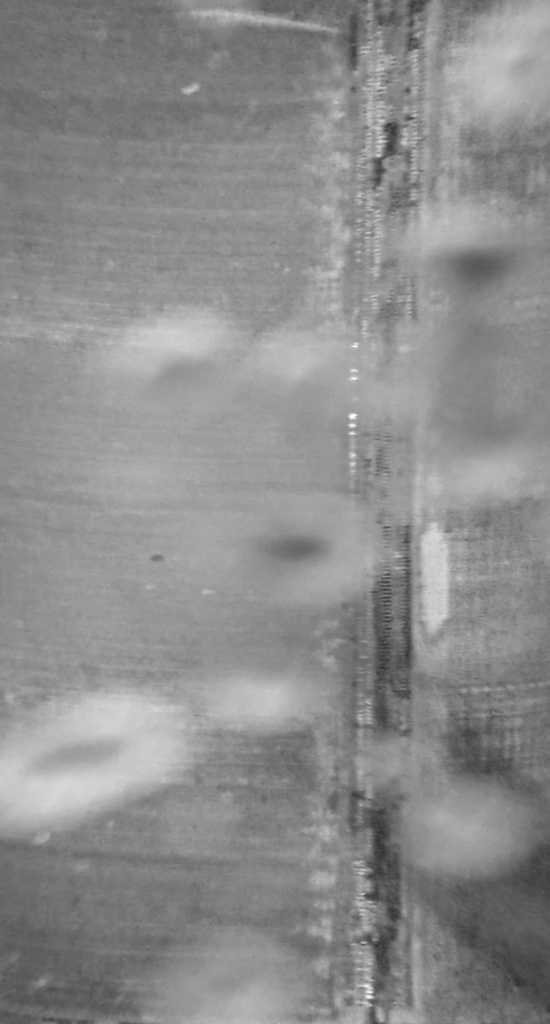splice: (335, 1, 432, 1023)
